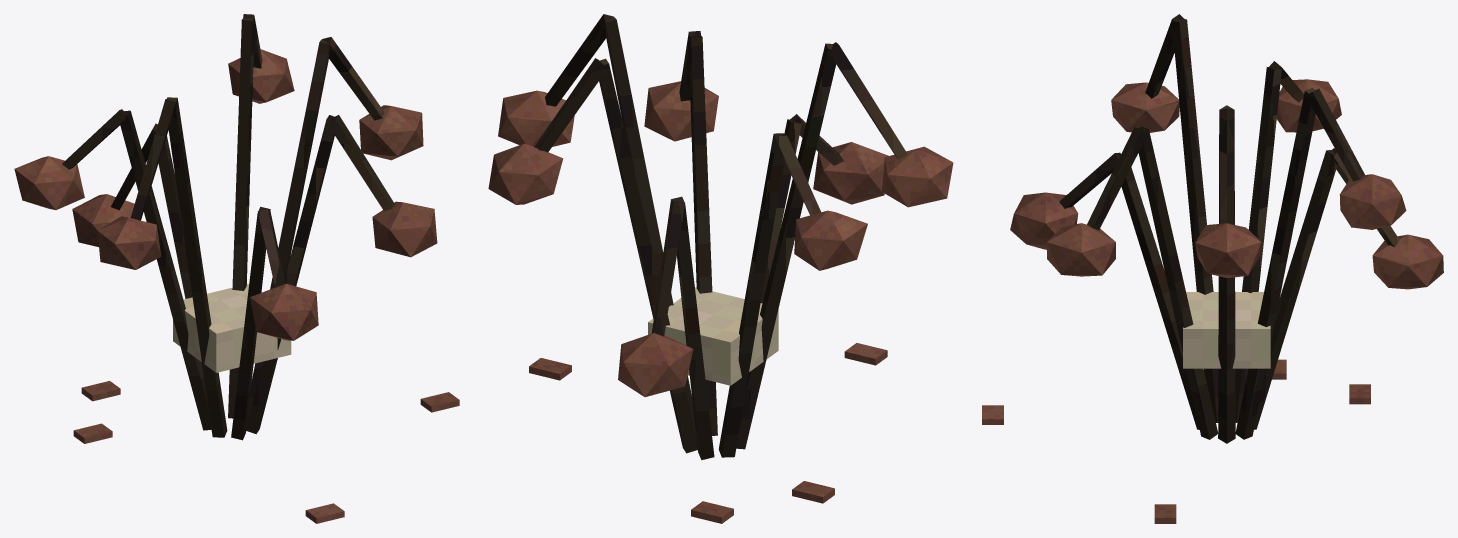
The model's file is flores_marchitas.obj.
The picture shows the model from 3 angles, left to right: view 1: azimuth 30°, elevation 25°; view 2: azimuth 150°, elevation 25°; view 3: azimuth 270°, elevation 25°; orthographic projection. The views are drawn at different scales.
Visible parts, largest first — view 1: flores_marchitas; view 2: flores_marchitas; view 3: flores_marchitas.
Part boxes in pixels (x1,y1,x2,y2): flores_marchitas: (14, 14, 459, 523); flores_marchitas: (488, 14, 953, 523); flores_marchitas: (982, 14, 1443, 523).
Size of the model in its own units: 0.3879 by 0.3764 by 0.4222.
3 materials, 3 textured.
